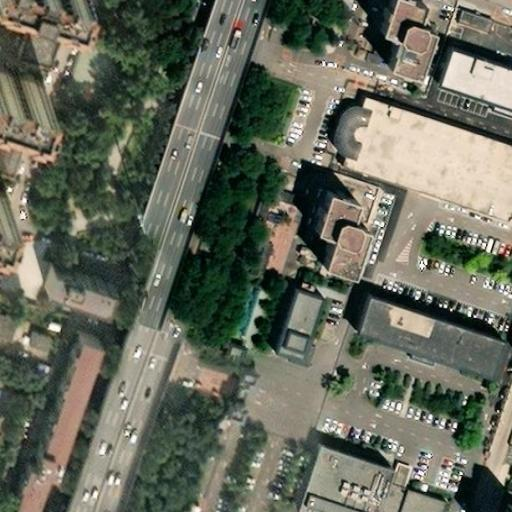building: (337, 114, 512, 237), (350, 303, 501, 399), (33, 329, 104, 471), (290, 443, 414, 512), (312, 206, 368, 292), (381, 1, 437, 82), (444, 73, 512, 130), (272, 307, 321, 382), (27, 253, 100, 302), (227, 277, 265, 337), (0, 186, 16, 242)
